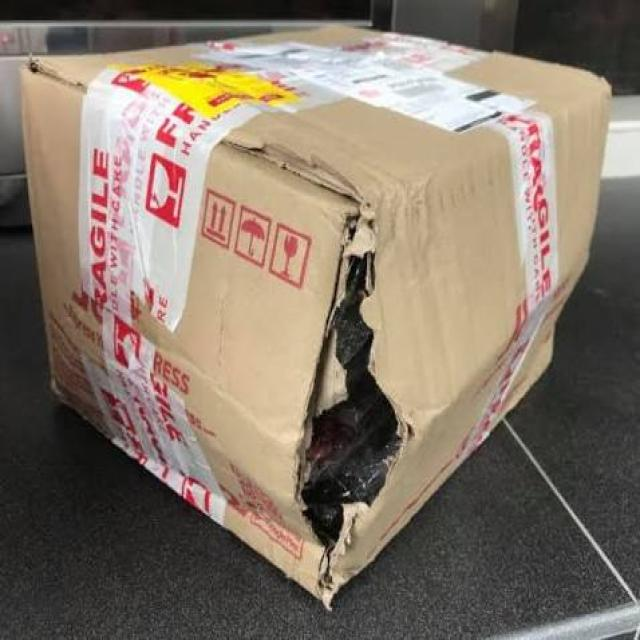carton_box: (9, 21, 623, 628)
fragile_label: (126, 138, 188, 232), (271, 219, 311, 290)
keep_dry_label: (235, 203, 273, 267)
package_damage: (290, 182, 422, 610)
this_side_up_label: (196, 186, 240, 252)
